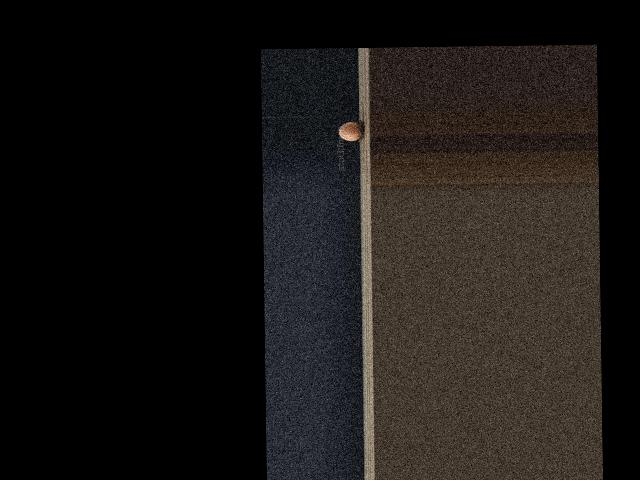egg: (339, 121, 360, 140)
